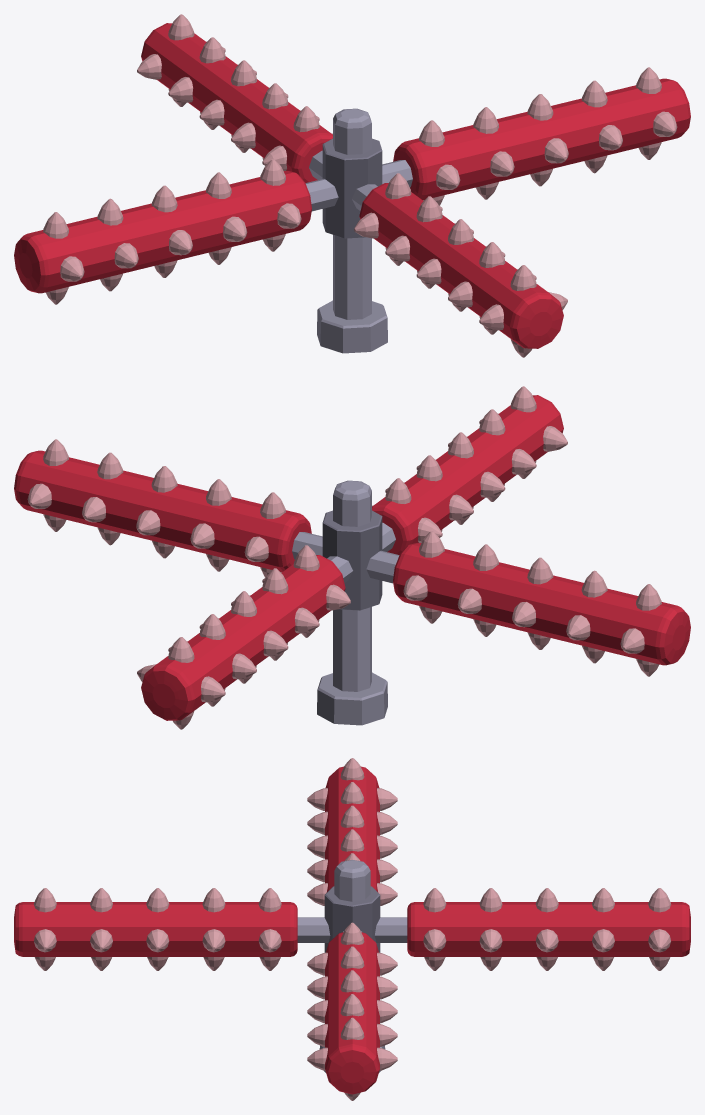
File: Hurdle1.fbx
The picture shows the model from 3 angles, top to bottom: view 1: azimuth 30°, elevation 25°; view 2: azimuth 150°, elevation 25°; view 3: azimuth 270°, elevation 25°; orthographic projection. The views are drawn at different scales.
Visible parts, largest first — view 1: Hurdle1; view 2: Hurdle1; view 3: Hurdle1.
Part boxes in pixels (x1,y1,x2,y2): Hurdle1: [14, 14, 690, 357]; Hurdle1: [14, 386, 690, 729]; Hurdle1: [14, 758, 690, 1100].
Size of the model in its own units: 5.45 by 1.79 by 5.45.
Materials: 1 (1 with a texture image).
